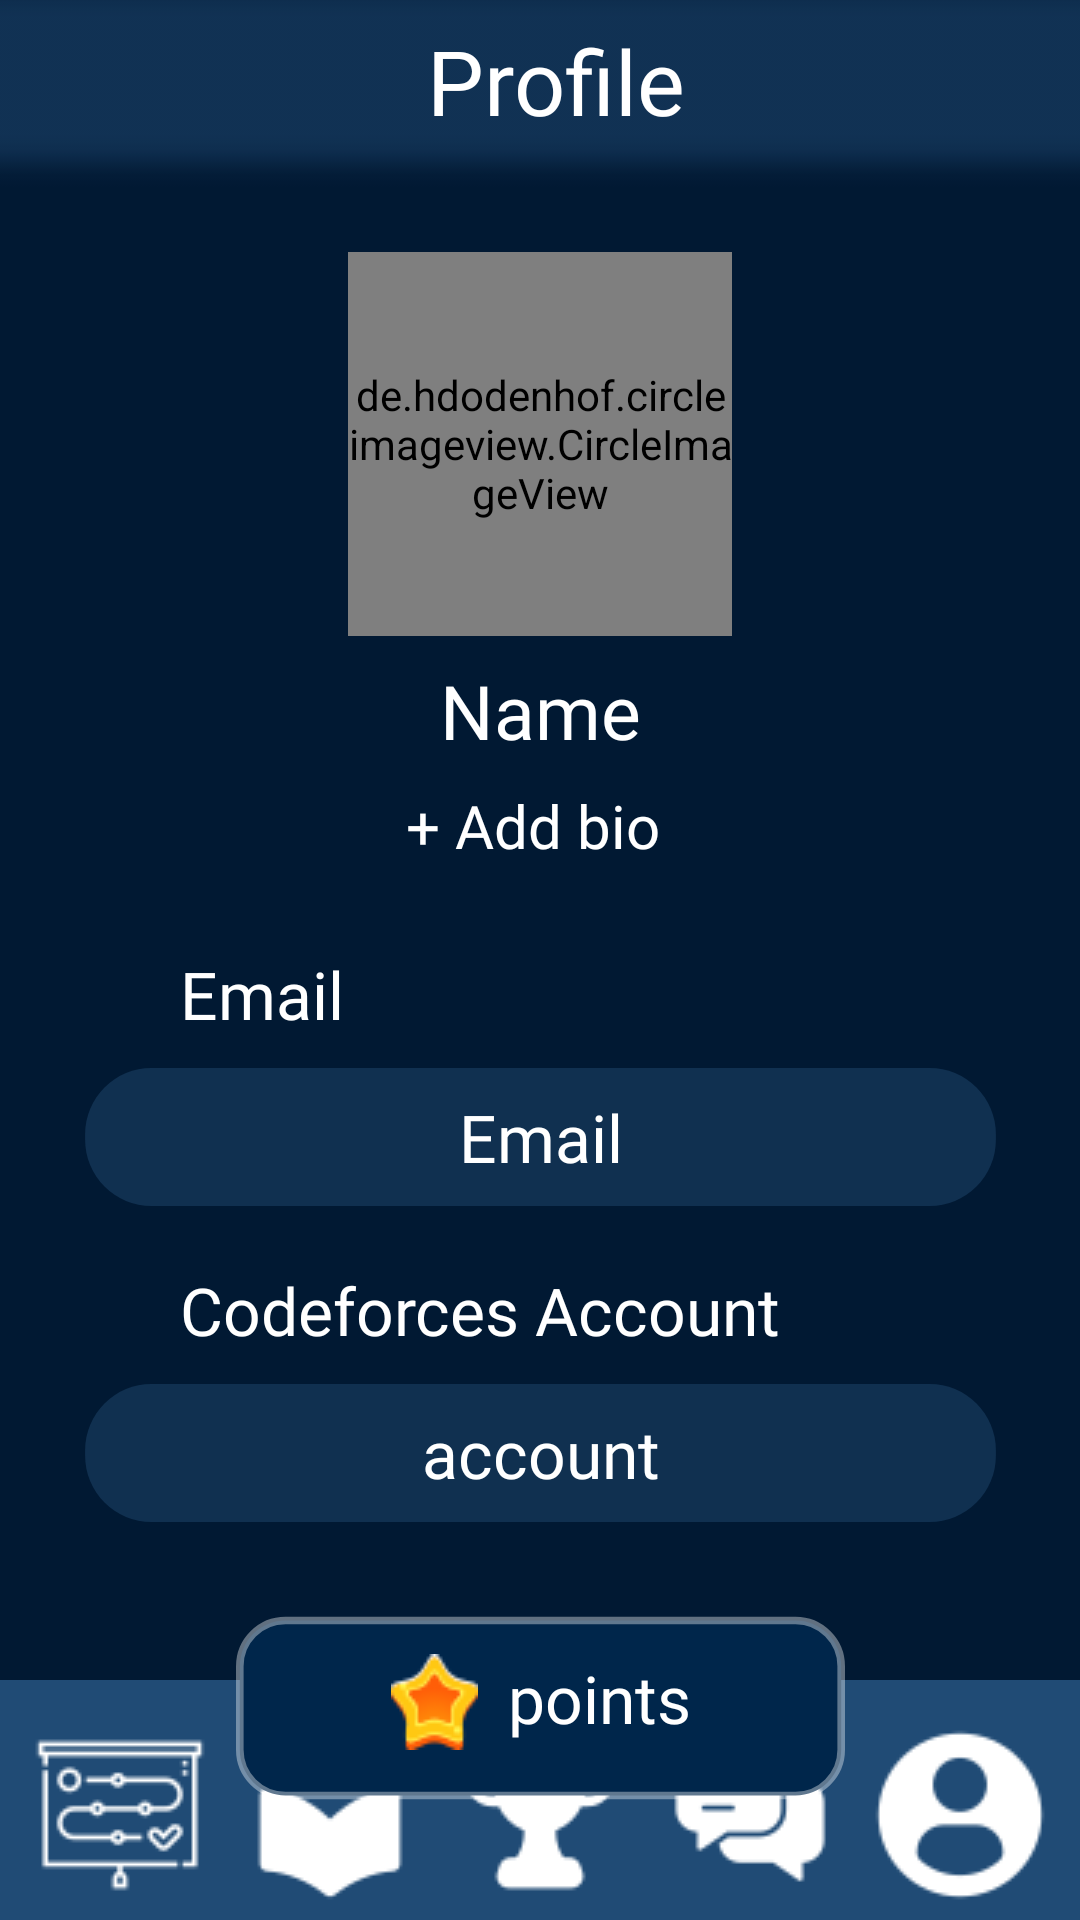

Screen size 1080x1920. Icon name, then its center in pixels as point (x, y):
Profile User: point (960, 1815)
Roadmap: point (120, 1815)
